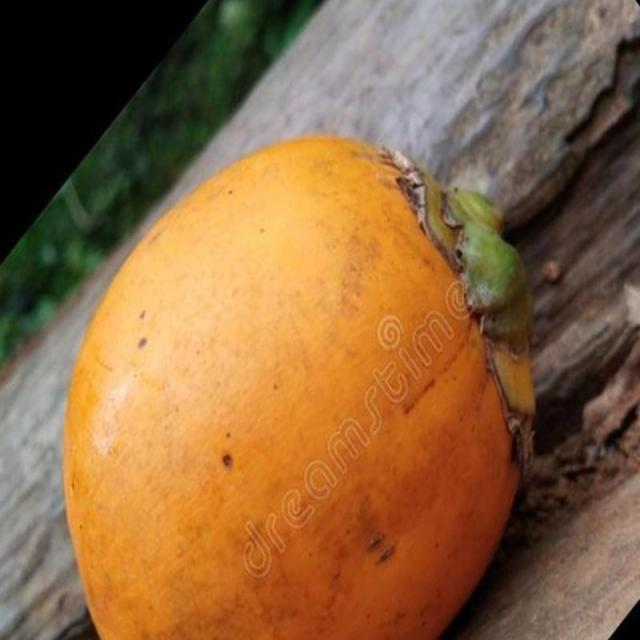good: (58, 134, 535, 639)
